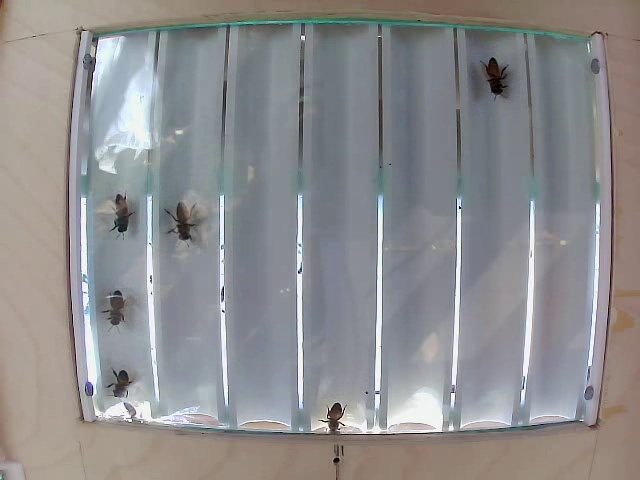bee: (171, 196, 216, 249), (313, 394, 370, 433), (474, 64, 515, 115), (101, 193, 142, 240), (96, 288, 133, 338), (98, 372, 139, 415)
